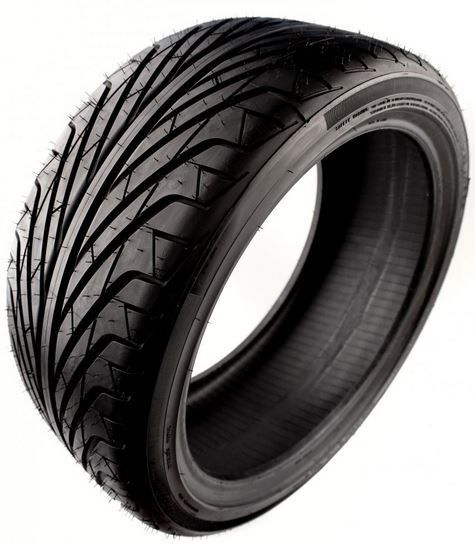new_condition: (4, 17, 466, 535)
